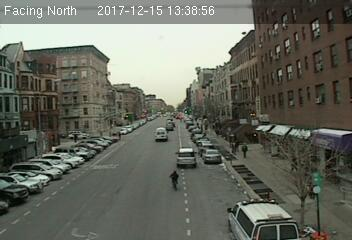bicycle: (170, 169, 180, 191)
car: (175, 147, 197, 167), (202, 148, 222, 164)
pedestrian: (240, 141, 248, 157)
police: (224, 197, 300, 240)
truck: (153, 128, 168, 142)
